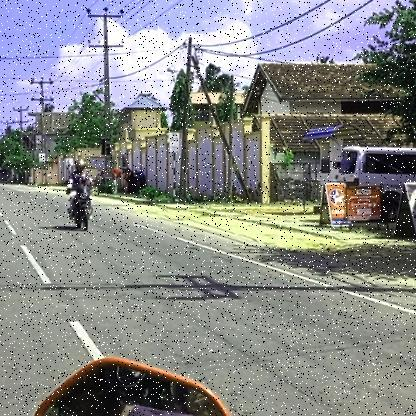motorcycle: (63, 184, 102, 232)
